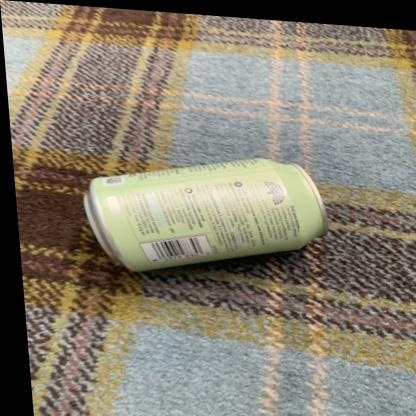trash: (84, 159, 326, 270)
